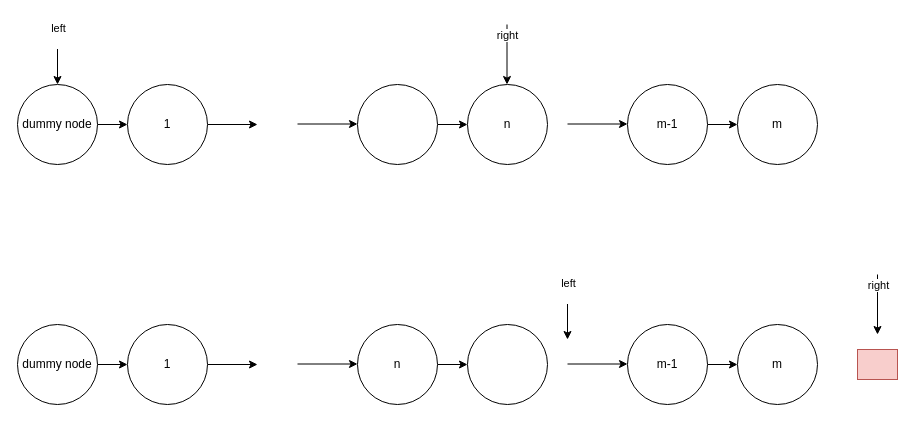
Some shapes in this 915 by 422 pixel diagram are drawn without their labels. The shapes that lost their labels are listed below. From the top down, each one's centre as x and y in pixels, then its label:
At point (397, 124): "n-1".
At point (507, 364): "n+1".
At point (877, 364): "null".
